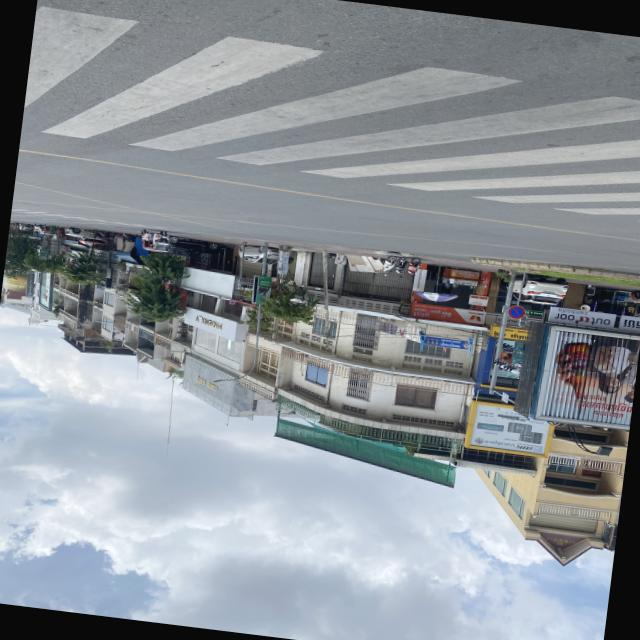1: (192, 374, 218, 393)
2: (412, 306, 441, 314)
234: (478, 413, 493, 417)
483: (478, 410, 494, 415)
888: (441, 311, 448, 315)
893: (439, 340, 461, 348)
Yolov11_80vkh: (484, 439, 516, 448), (412, 310, 430, 317), (472, 436, 484, 445), (446, 312, 452, 317)
